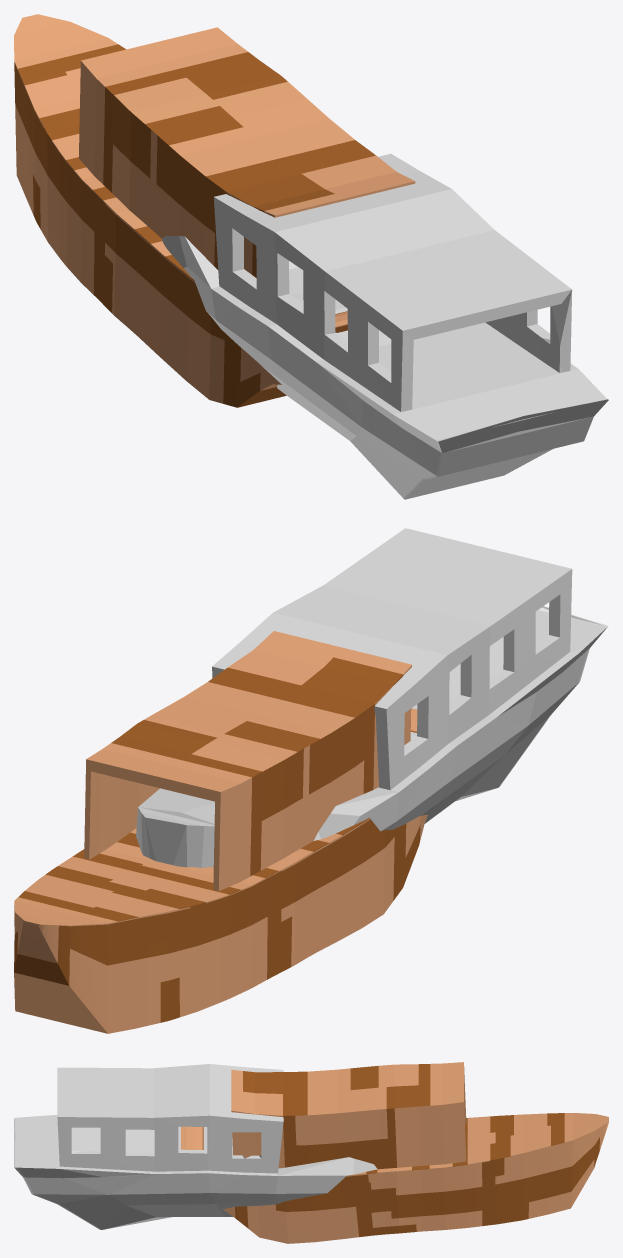
File: Boat3.glb
3 views of the same model, one above another, from view 1: azimuth 30°, elevation 25°; view 2: azimuth 150°, elevation 25°; view 3: azimuth 270°, elevation 25° (orthographic). The views are drawn at different scales.
Visible parts, largest first — view 1: Plane.002, Plane.001, Plane; view 2: Plane.002, Plane, Plane.001; view 3: Plane.002, Plane, Plane.001.
Part boxes in pixels (x1,y1,x2,y2): Plane.002: [161, 153, 608, 499]; Plane.001: [79, 27, 415, 277]; Plane: [14, 14, 347, 407]; Plane.002: [136, 528, 608, 867]; Plane: [14, 708, 427, 1033]; Plane.001: [84, 631, 411, 891]; Plane.002: [14, 1064, 377, 1229]; Plane: [181, 1113, 608, 1243]; Plane.001: [231, 1062, 466, 1169].
Bounding box in the file's own units: 3.13 × 3.49 × 13.81.
